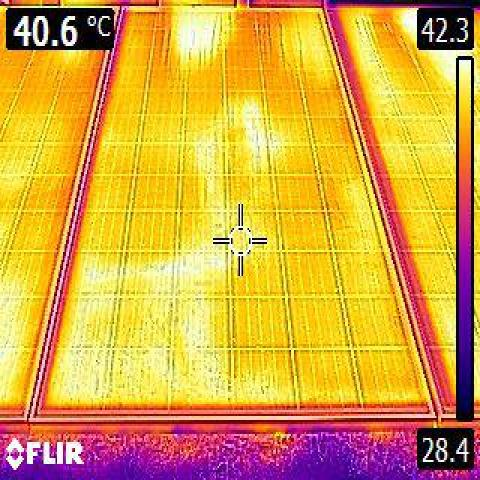fault: (182, 23, 215, 48)
